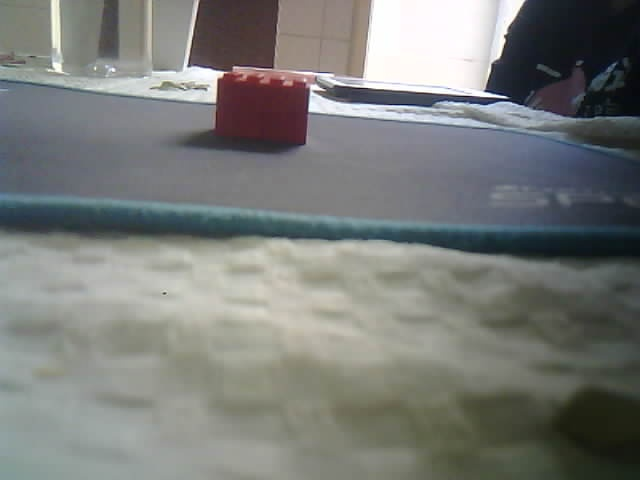lego: (213, 71, 309, 144)
